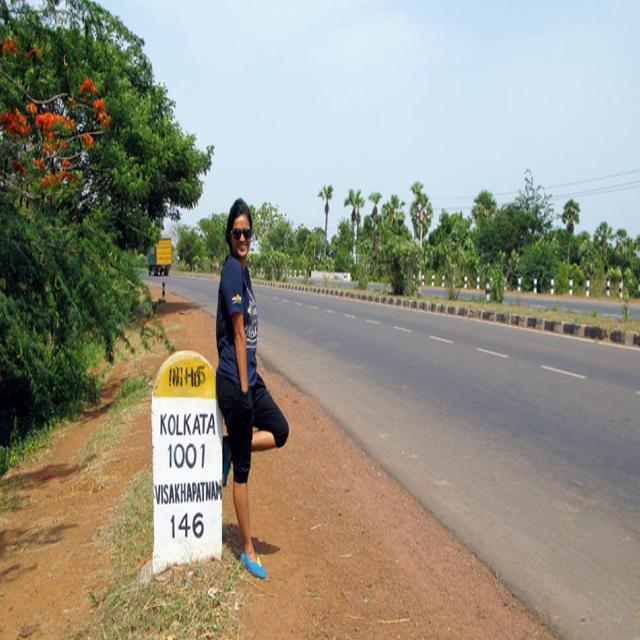Clean road: (134, 255, 640, 639)
